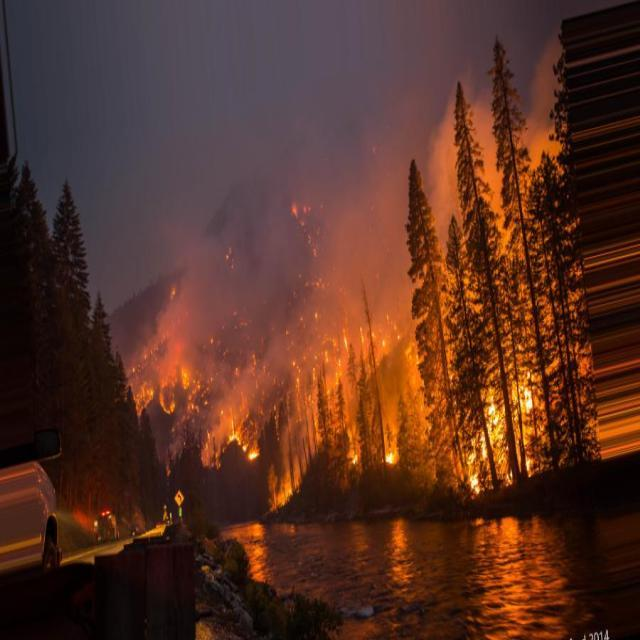Fire: (130, 366, 412, 436), (456, 349, 564, 487), (203, 438, 306, 516), (350, 436, 404, 478)
Smoke: (138, 105, 400, 359), (401, 42, 569, 226)
